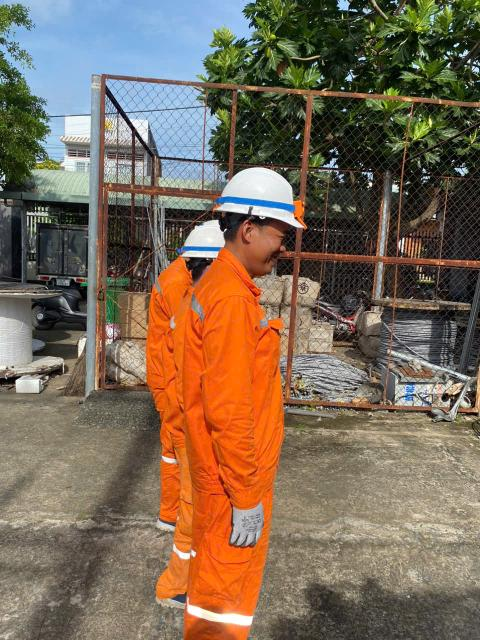gloves: (226, 495, 272, 553)
helmet: (216, 161, 317, 238), (164, 216, 247, 272)
